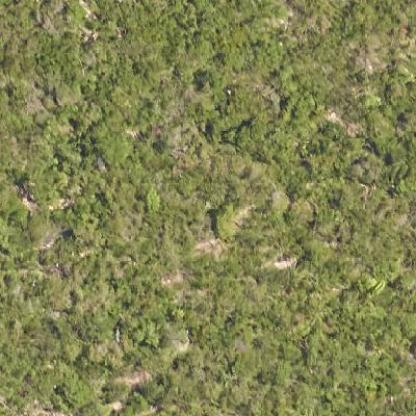tree-top: (208, 204, 239, 243)
